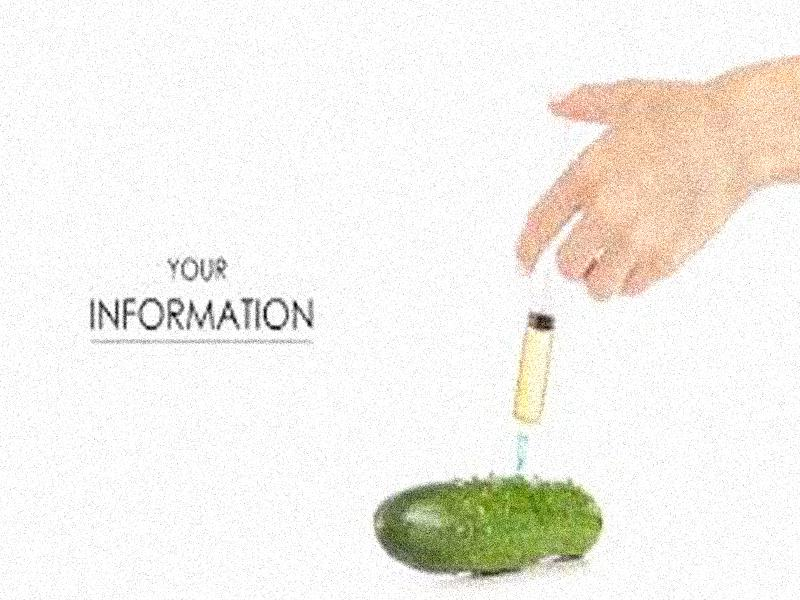Cucumber: (374, 475, 605, 569)
